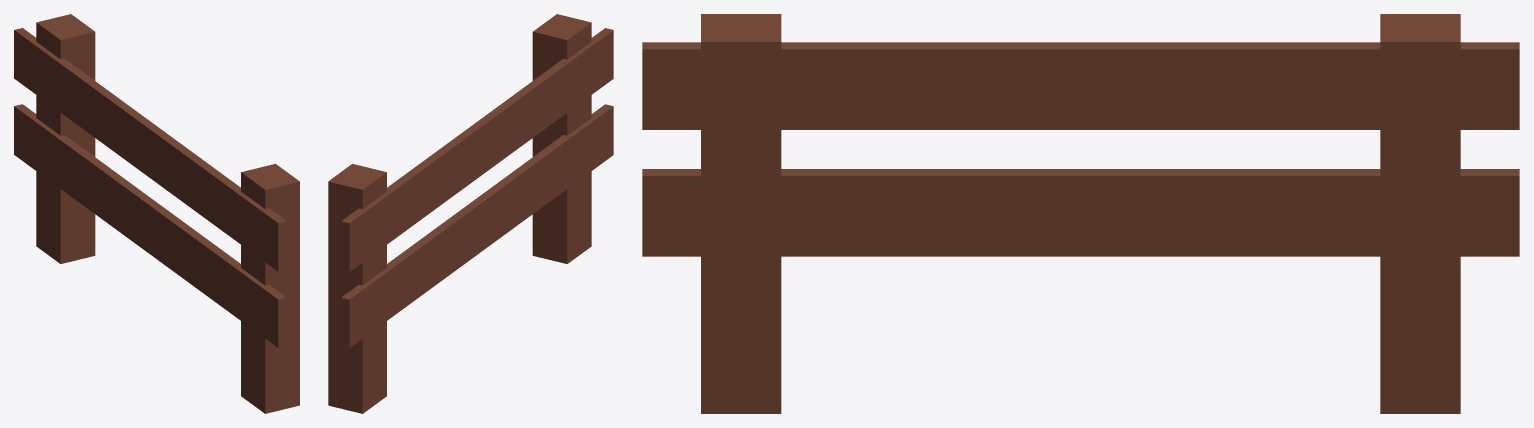
File: LowPlank.fbx
3 renders of one model, left to right at view 1: azimuth 30°, elevation 25°; view 2: azimuth 150°, elevation 25°; view 3: azimuth 270°, elevation 25°, orthographic. The views are drawn at different scales.
Visible parts, largest first — view 1: Plank; view 2: Plank; view 3: Plank.
Part boxes in pixels (left/top/right/bottom): Plank: left=14, top=14, right=299, bottom=413; Plank: left=328, top=14, right=613, bottom=413; Plank: left=642, top=14, right=1519, bottom=413.
Bounding box in the file's own units: 69.42 × 379 × 810.
